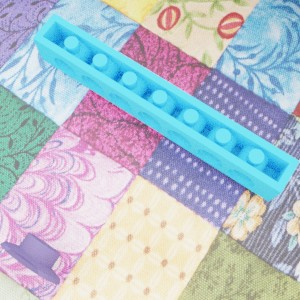lego: (32, 12, 299, 201), (0, 232, 61, 284)
